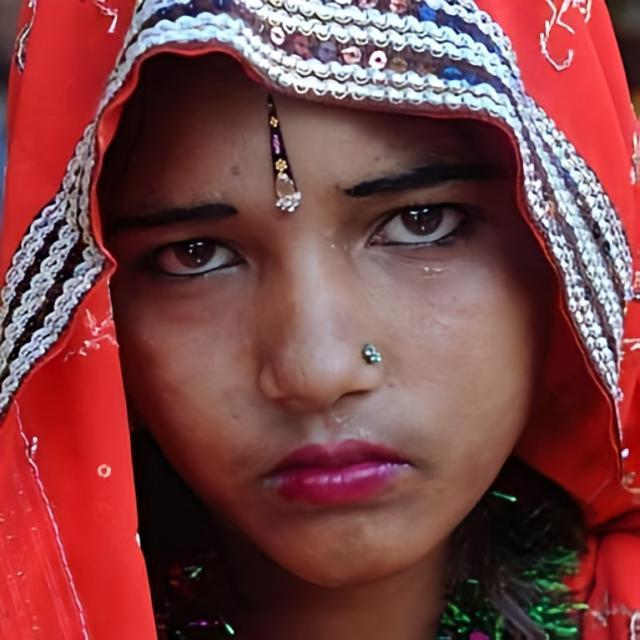anger: (108, 48, 540, 588)
